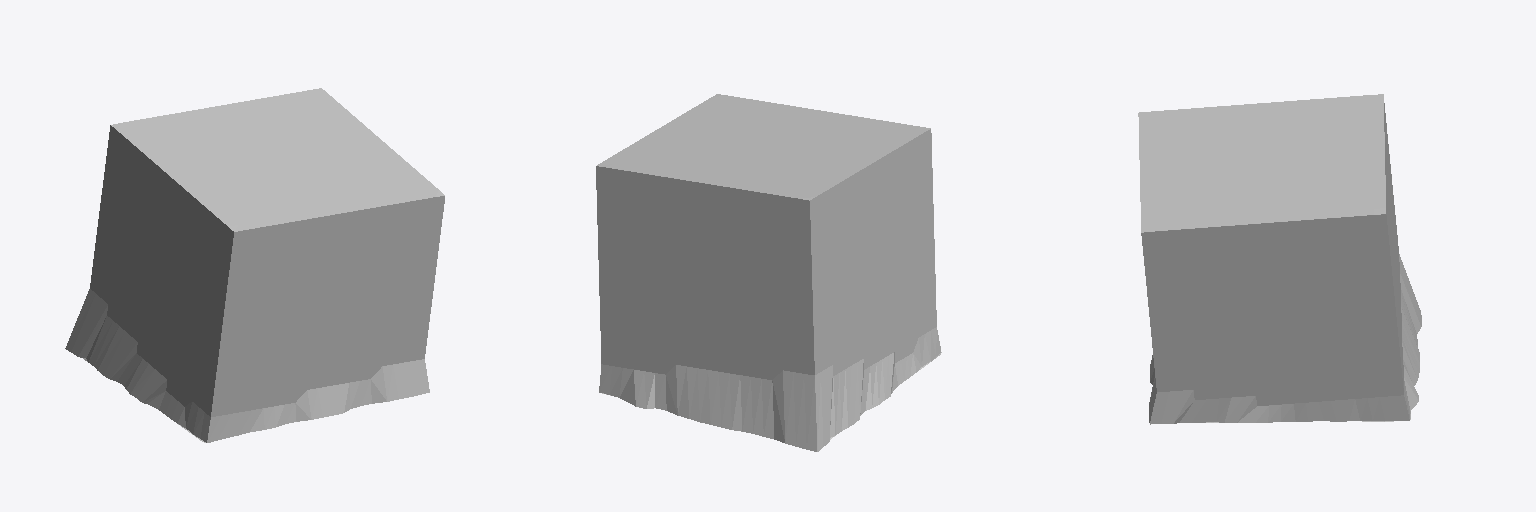
Rendered from mod0008.obj.
The picture shows the model from 3 angles: view 1: azimuth 30°, elevation 25°; view 2: azimuth 150°, elevation 25°; view 3: azimuth 270°, elevation 25°; orthographic projection.
Visible parts, largest first — view 1: Box001; view 2: Box001; view 3: Box001.
Part boxes in pixels (bbox=[...]): Box001: bbox=[65, 88, 444, 442]; Box001: bbox=[596, 94, 941, 451]; Box001: bbox=[1138, 94, 1421, 424].
Bounding box in the file's own units: 0.6079 × 0.5609 × 0.6203.